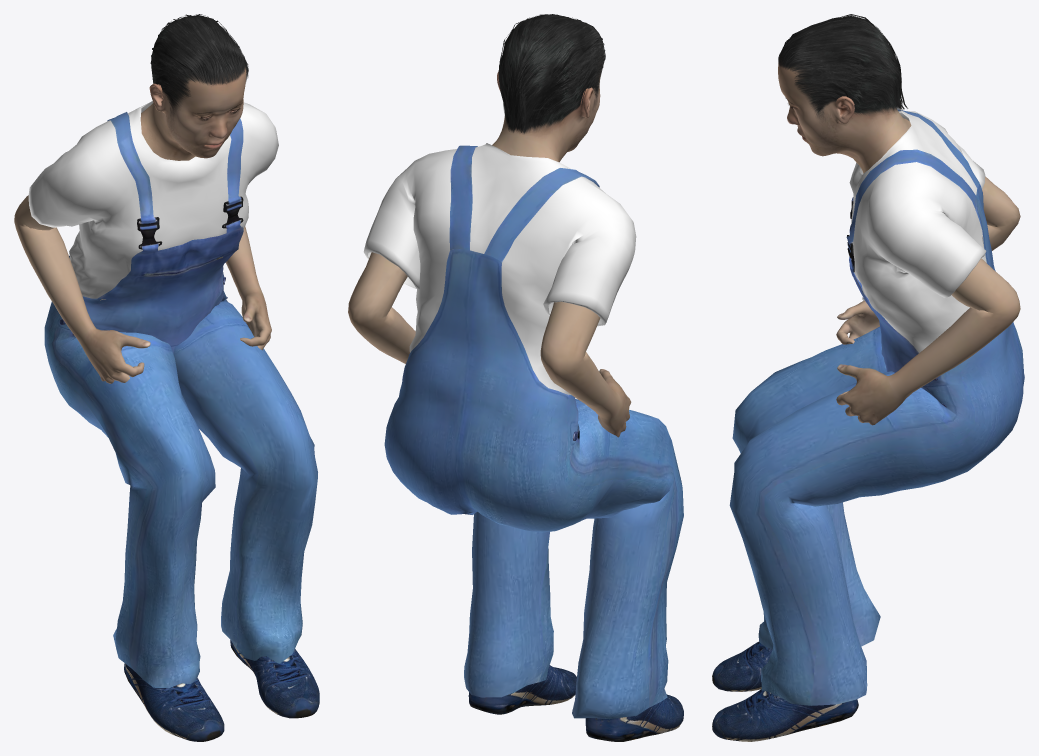
Rendered from uomo-04.glb.
3 renders of one model, left to right at view 1: azimuth 30°, elevation 25°; view 2: azimuth 150°, elevation 25°; view 3: azimuth 270°, elevation 25°, orthographic. The views are drawn at different scales.
Visible parts, largest first — view 1: Human.male_worksuit01, Human, Human.shoes06, Human.short04; view 2: Human.male_worksuit01, Human, Human.short04, Human.shoes06; view 3: Human.male_worksuit01, Human, Human.short04, Human.shoes06.
Part boxes in pixels (bbox=[...]): Human.male_worksuit01: bbox=[28, 101, 317, 688]; Human: bbox=[14, 67, 271, 383]; Human.shoes06: bbox=[124, 640, 319, 741]; Human.short04: bbox=[150, 14, 248, 116]; Human.male_worksuit01: bbox=[363, 143, 683, 719]; Human: bbox=[348, 71, 631, 437]; Human.short04: bbox=[498, 14, 605, 133]; Human.shoes06: bbox=[468, 665, 683, 741]; Human.male_worksuit01: bbox=[729, 109, 1024, 705]; Human: bbox=[778, 61, 1020, 425]; Human.short04: bbox=[778, 14, 907, 119]; Human.shoes06: bbox=[712, 641, 858, 741].
Size of the model in its own units: 0.472 by 1.36 by 0.5593.
12 materials, 12 textured.
